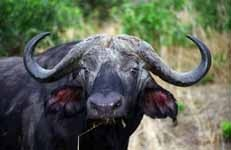buffalo: (0, 31, 210, 148)
